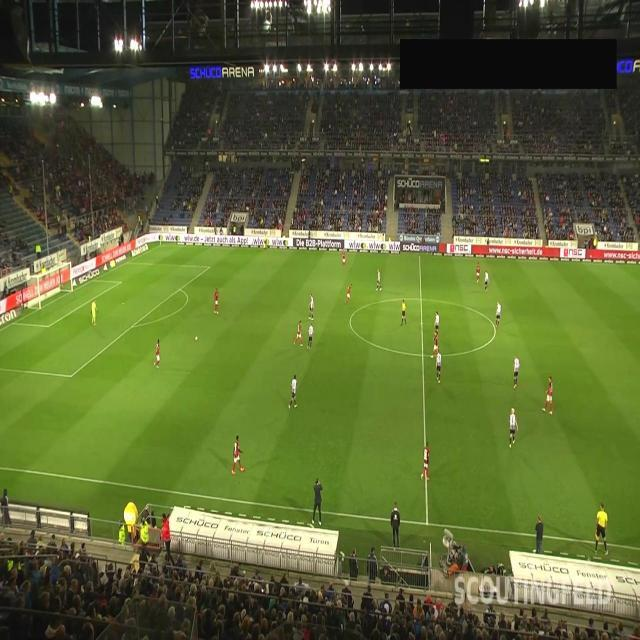ball: (194, 334, 198, 342)
team1: (231, 434, 245, 474), (542, 376, 553, 414), (420, 441, 430, 481), (293, 320, 303, 346), (431, 332, 439, 358), (154, 338, 160, 369), (345, 283, 352, 305), (341, 247, 347, 269), (214, 288, 219, 314), (476, 261, 480, 284)
team2: (509, 407, 519, 447), (288, 374, 298, 410), (306, 322, 314, 350), (436, 348, 442, 384), (514, 354, 520, 390), (308, 292, 314, 320), (496, 301, 502, 329), (434, 310, 440, 336), (376, 268, 382, 292), (483, 270, 489, 292)
